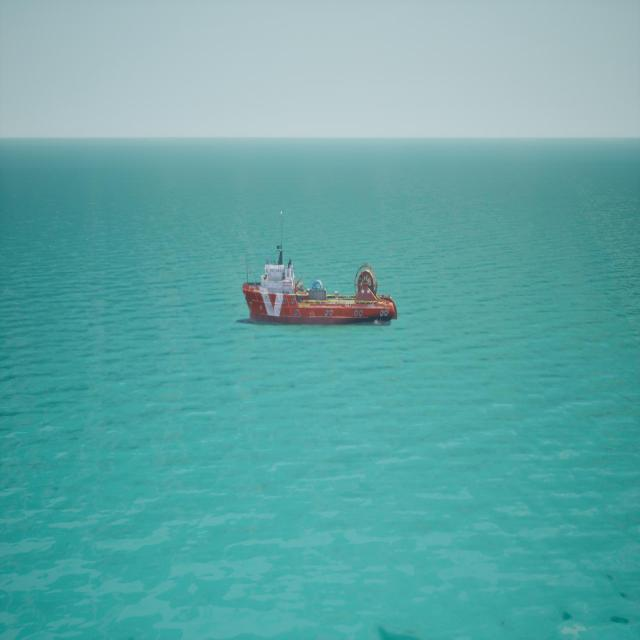tug boat: (241, 219, 397, 331)
